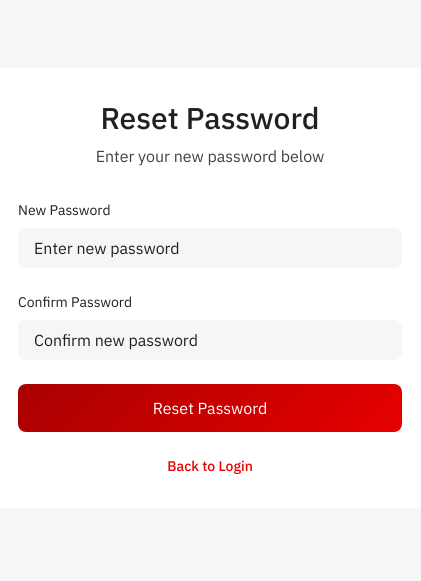
Test: ResetPasswordPage › blocks paste into confirm password and requires manual typing
Type "Validpass123!" into the password field with test id "new-password-input" at (210, 248), box [18, 228, 402, 268]
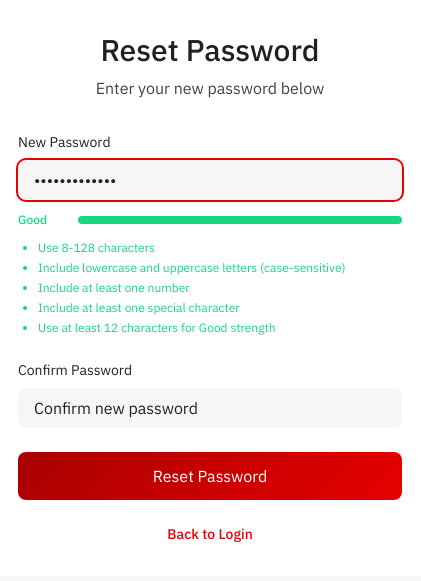
Click the password field with test id "confirm-password-input" at (210, 408), box [18, 388, 402, 428]
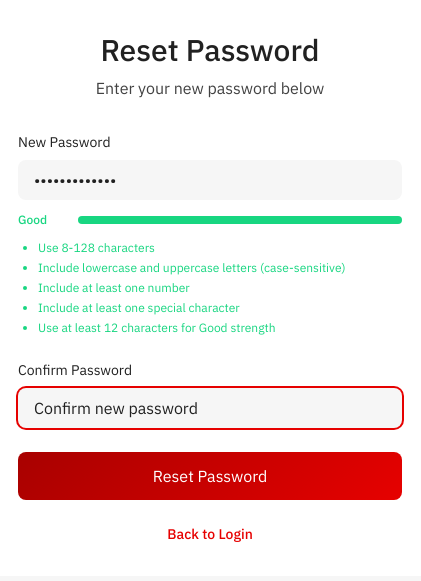
Type keys "Validpass123!"
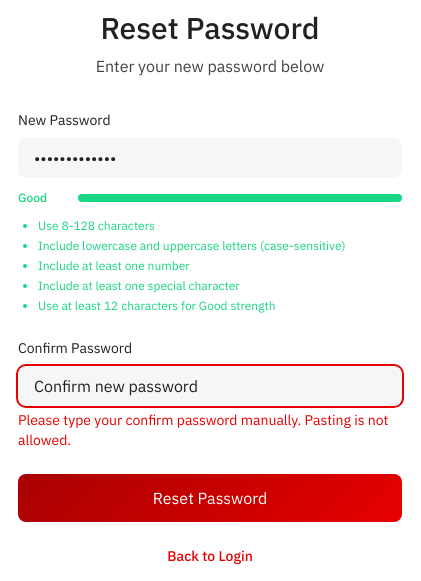
Expected: the password field with test id "confirm-password-input" is empty, [18, 366, 402, 406]
Result: the text "Please type your confirm password manually. Pasting is not allowed." is shown at [18, 410, 402, 450]
